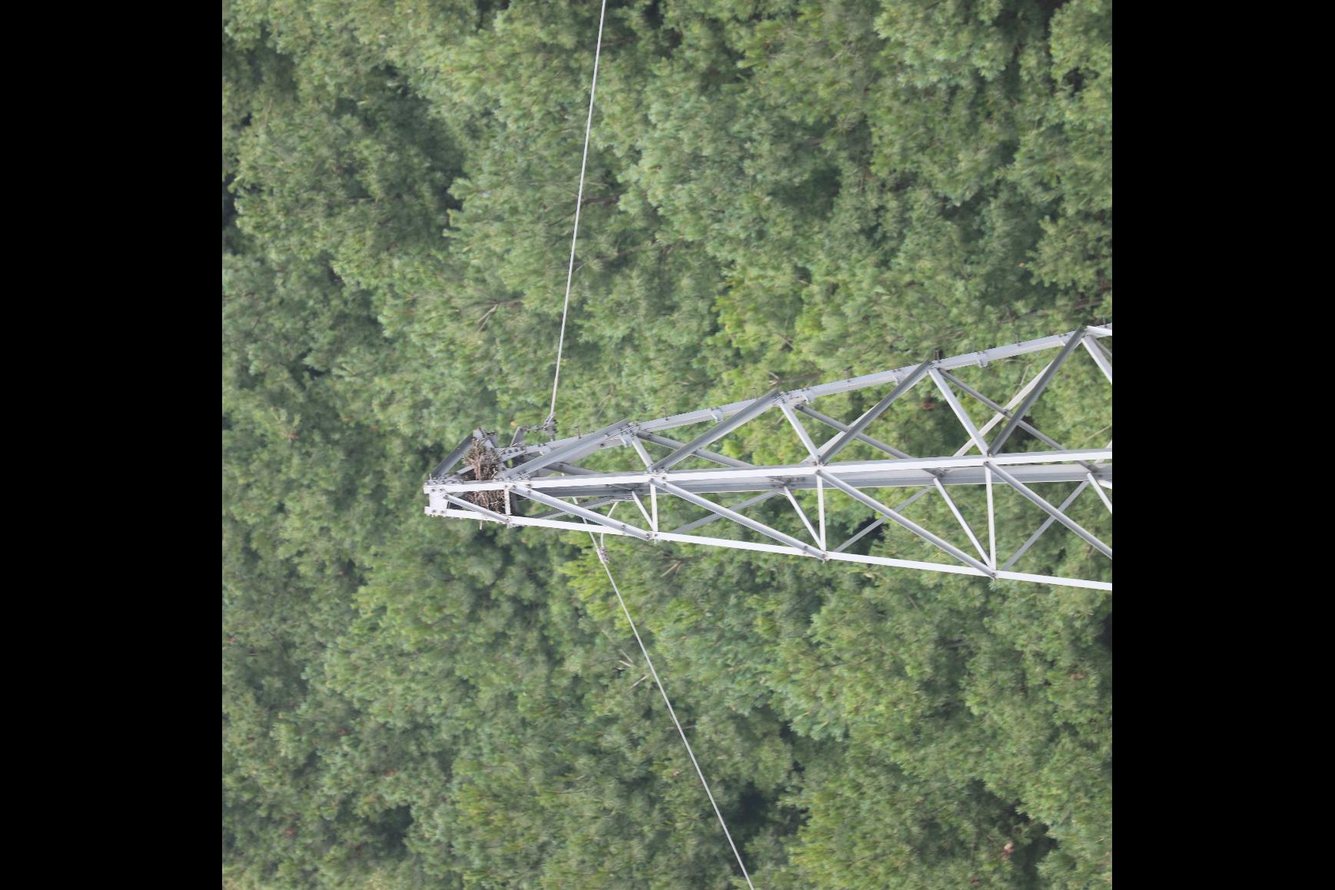nest: (462, 438, 506, 513)
